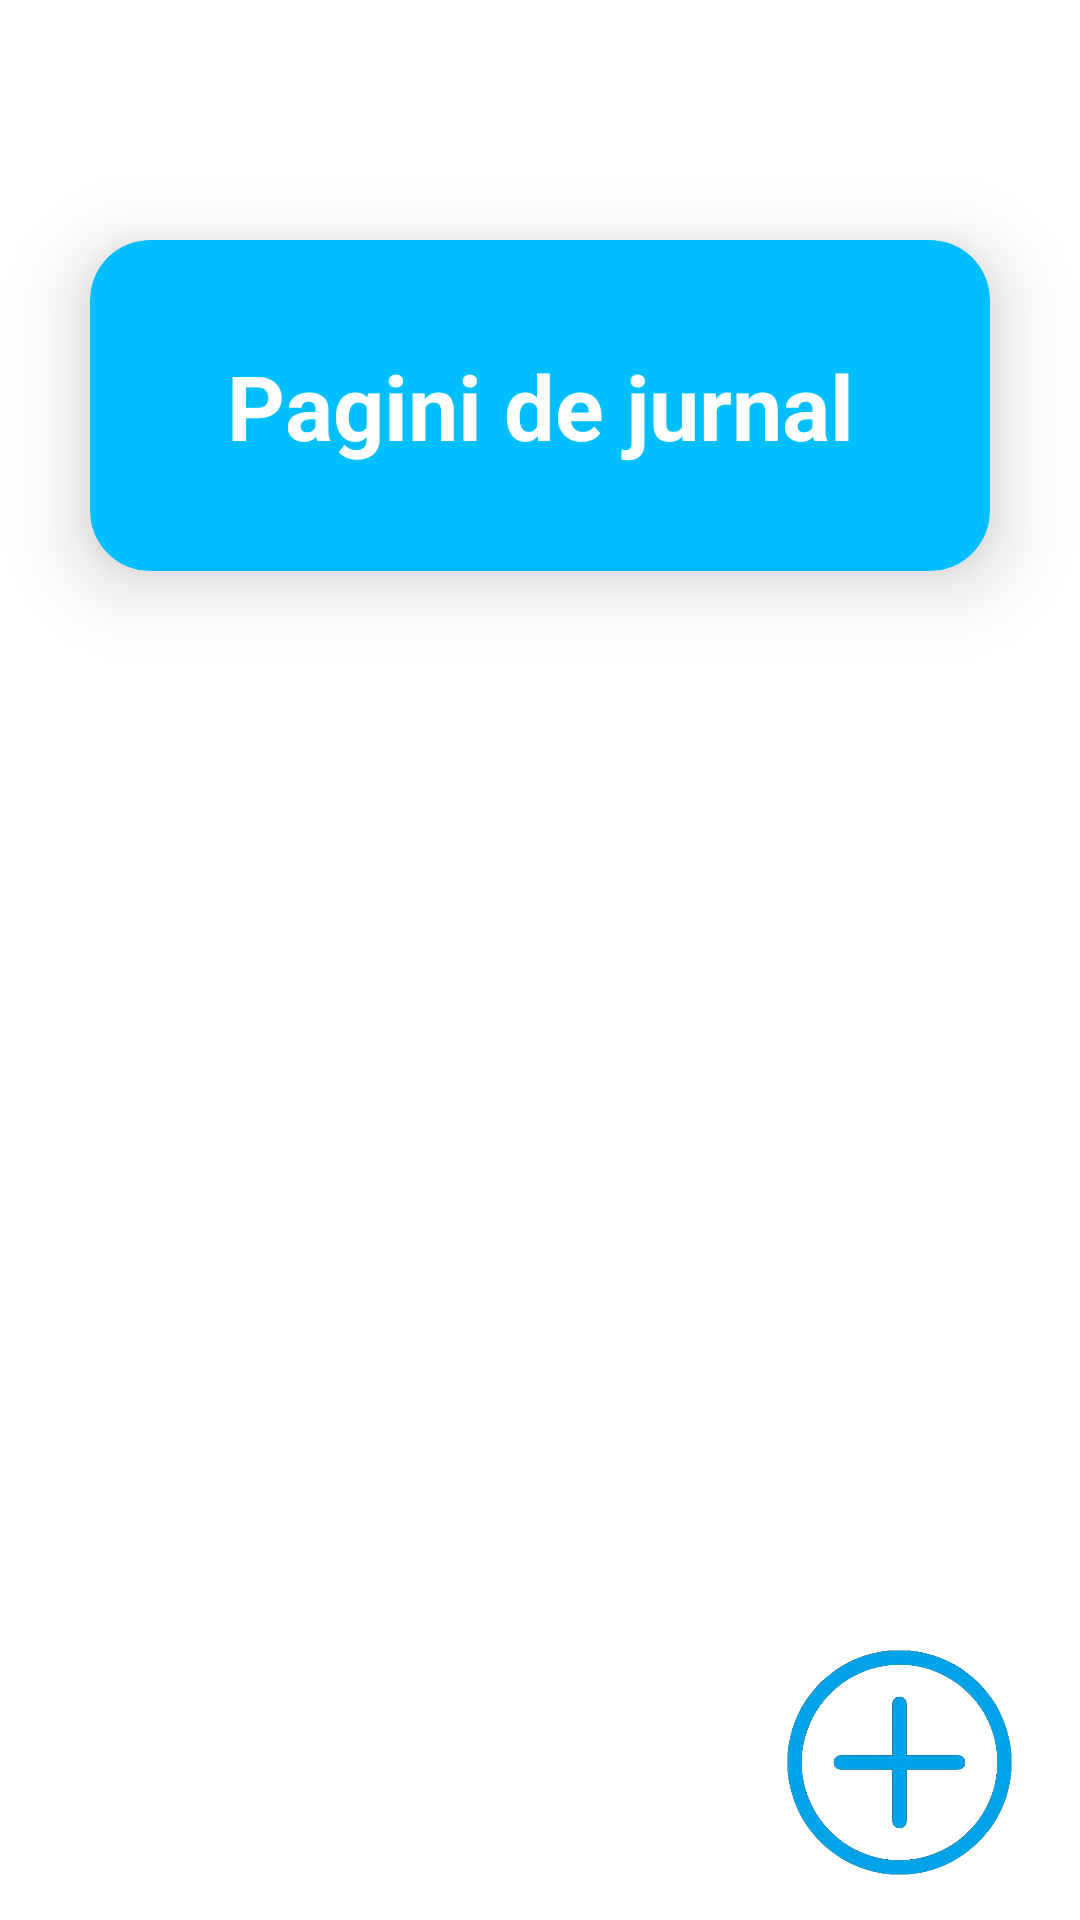

Named icons in this screenshot (1080px×1920px) and their centers, [x,y]:
addbuttonblue: [899,1762]
